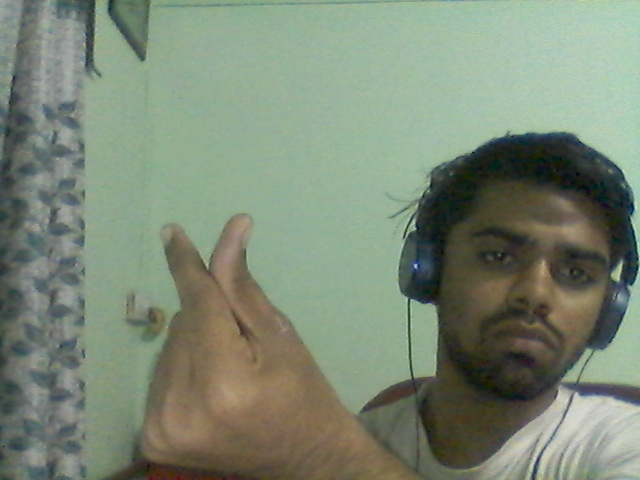I Love You: (128, 187, 382, 480)
